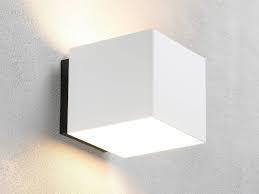Lamp: (51, 24, 211, 165)
